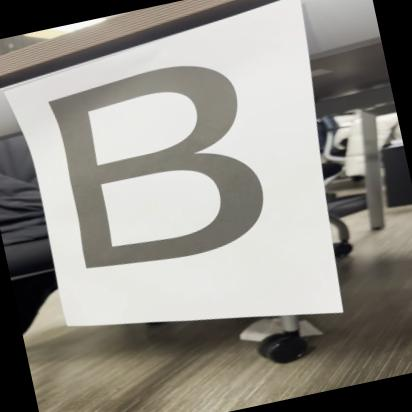seat: (21, 51, 281, 293)
